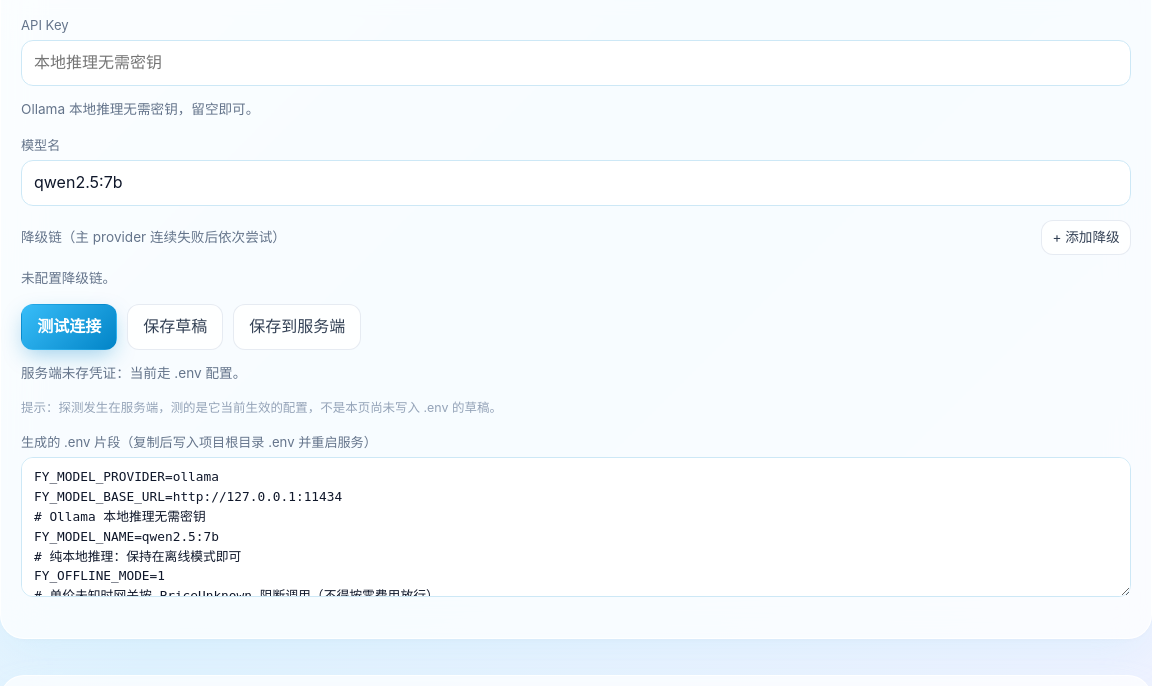
Test: SettingsPage 模型接入卡 (W4) › 测试连接失败展示后端返回的真实错误原文
The image size is (1152, 686).
(page scrolled)
What coordinates should you click on to do the following:
click the button with test id "probe-button"
I would click on:
 (69, 326)
Its box is [21,304,117,350].
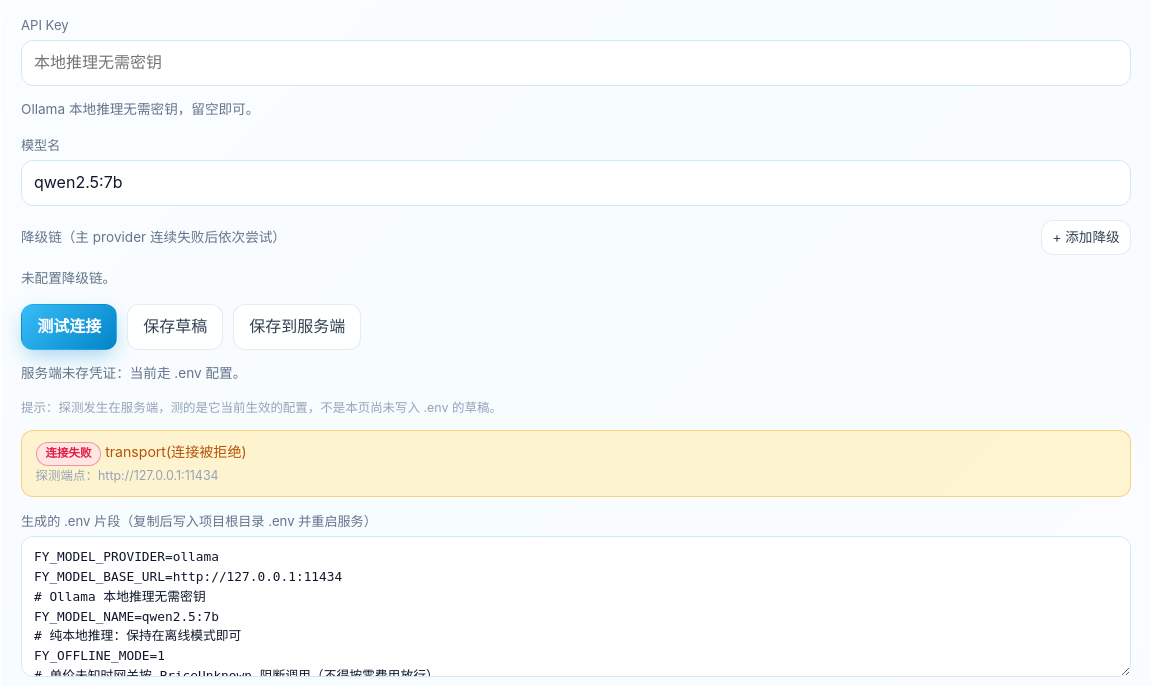
Check: the text with test id "probe-error" reads "transport(连接被拒绝)", box [105,443,247,460]
